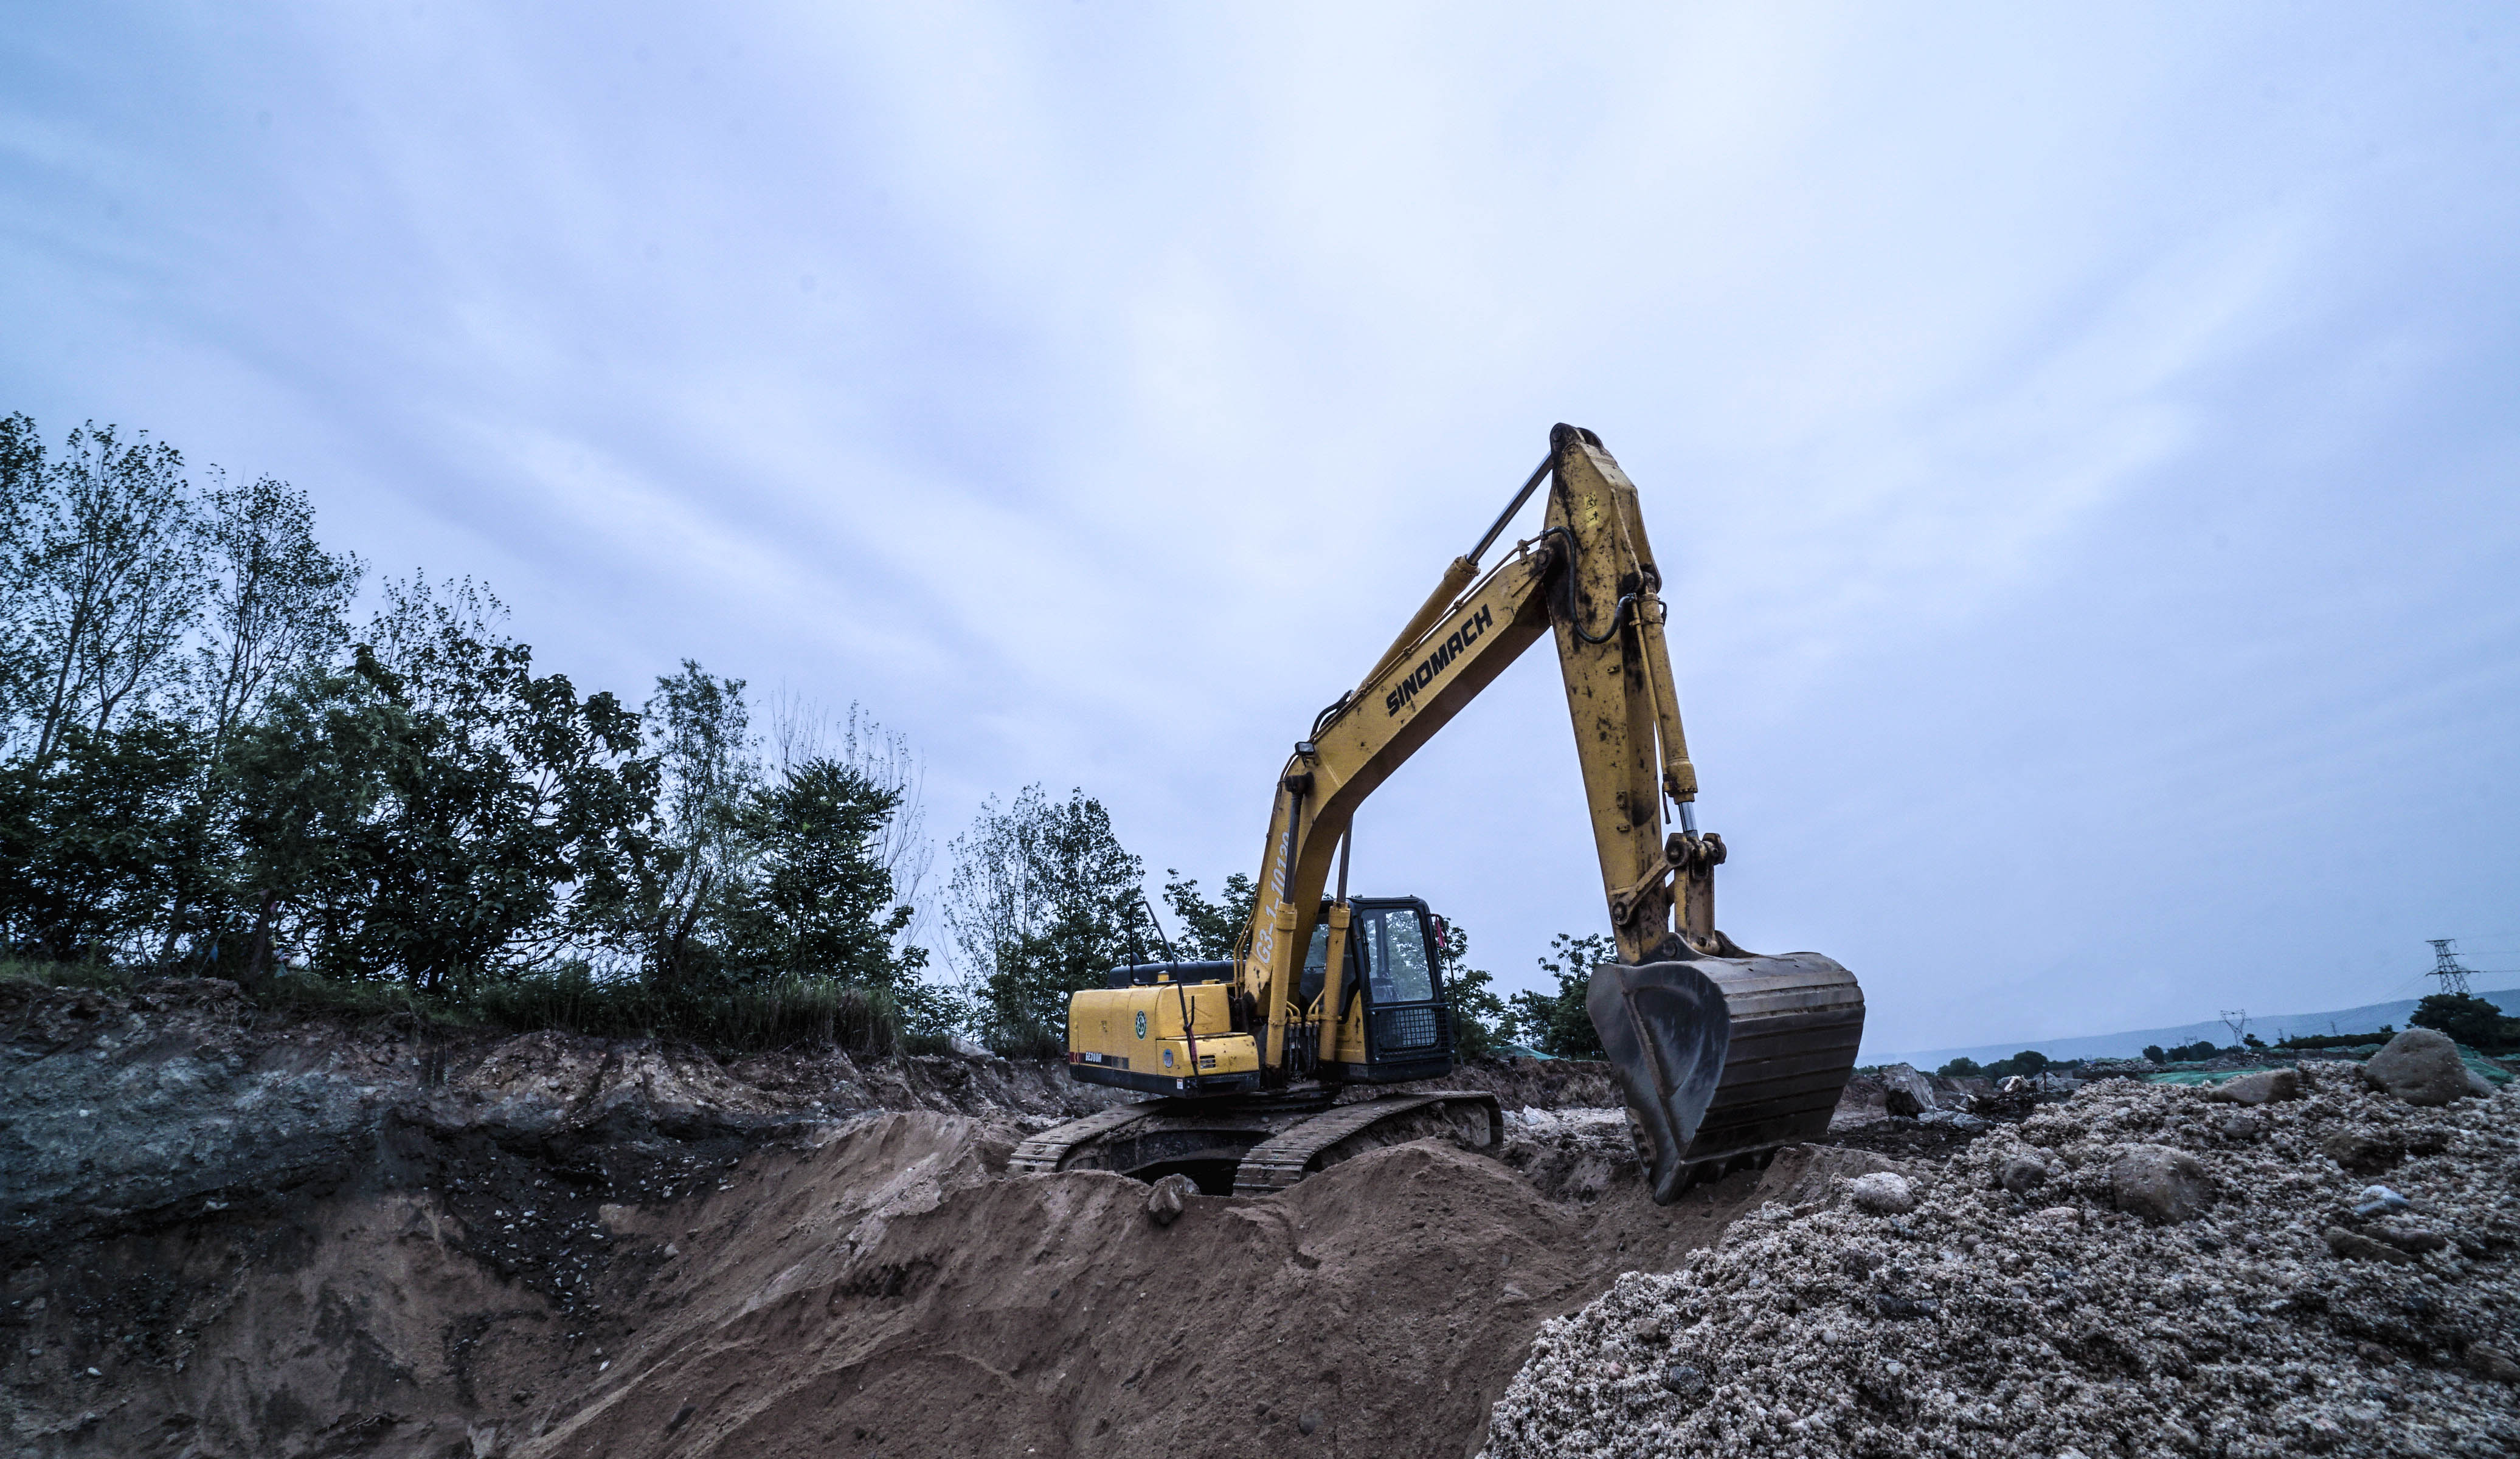excavator: (966, 386, 1867, 1285)
